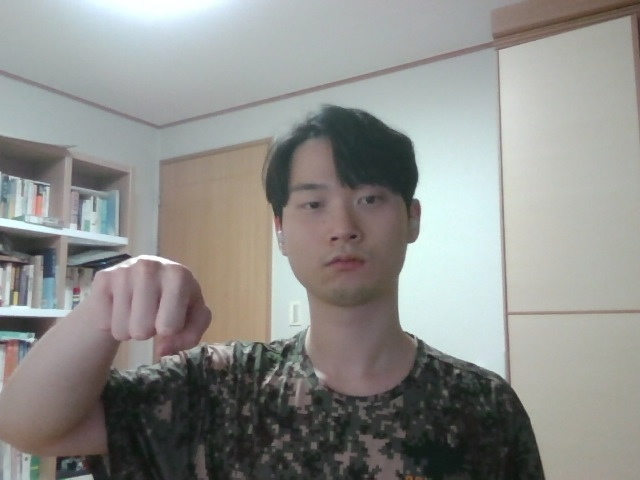yes: (52, 240, 255, 376)
